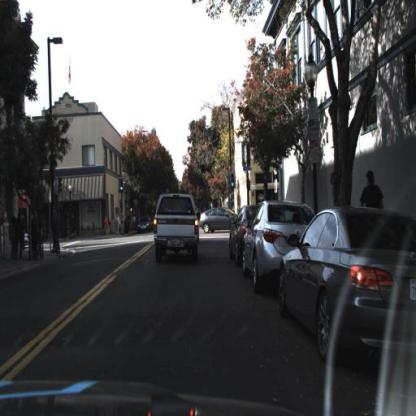car: (277, 204, 416, 374), (276, 196, 416, 362), (242, 199, 316, 293), (146, 188, 205, 275), (243, 200, 287, 290), (198, 205, 242, 237), (229, 202, 251, 266), (138, 214, 152, 237)
pedestrian: (360, 168, 386, 212), (360, 167, 385, 207), (13, 211, 30, 263), (51, 208, 62, 252), (31, 216, 39, 261), (70, 214, 78, 237), (103, 212, 111, 233), (115, 213, 122, 234), (121, 212, 126, 235)
trafficLight-Green: (230, 174, 238, 191), (119, 180, 125, 196)
